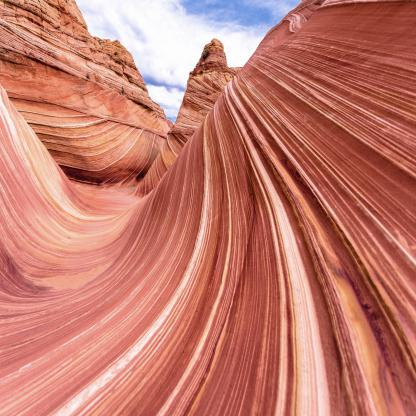Sedimentary_Sandstone: (0, 0, 147, 97), (194, 29, 229, 104)
